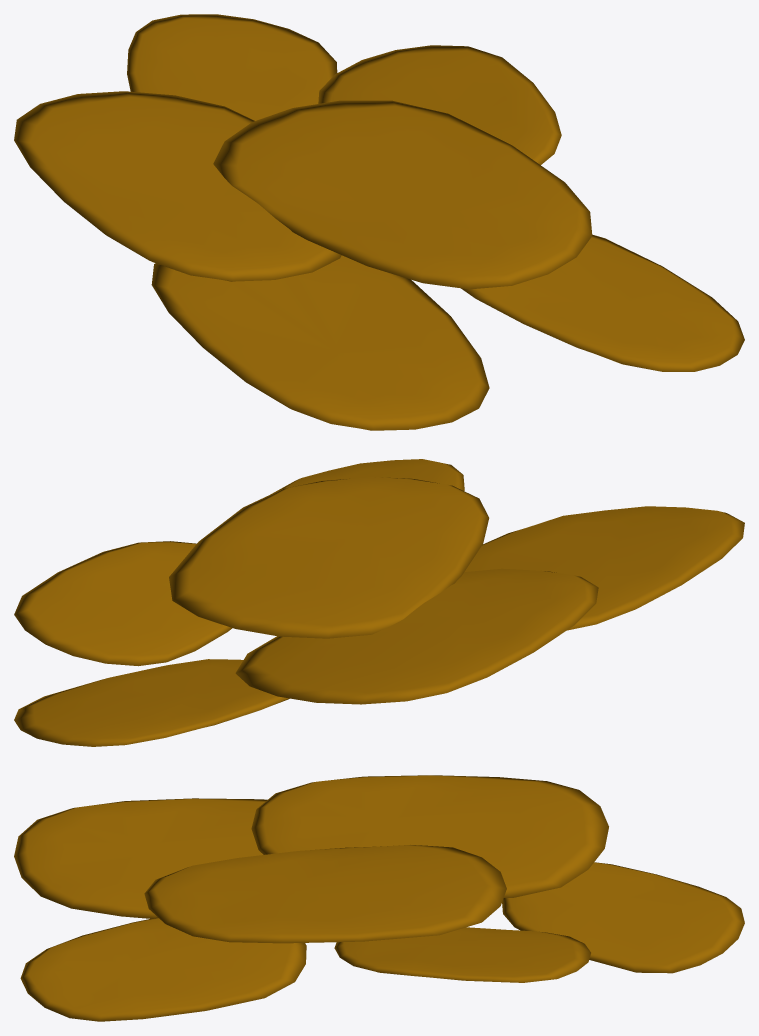
Rendered from qweqwewqeqwewqe.fbx.
The picture shows the model from 3 angles, top to bottom: view 1: azimuth 30°, elevation 25°; view 2: azimuth 150°, elevation 25°; view 3: azimuth 270°, elevation 25°; orthographic projection. The views are drawn at different scales.
Visible parts, largest first — view 1: pCylinder13; view 2: pCylinder13; view 3: pCylinder13.
Boxes of the visible parts, x1,y1,x2,y2 form: pCylinder13: [14, 14, 744, 430]; pCylinder13: [14, 459, 744, 746]; pCylinder13: [14, 775, 744, 1021].
Size of the model in its own units: 103 by 17.64 by 161.
